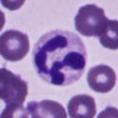N: (32, 30, 88, 86)
